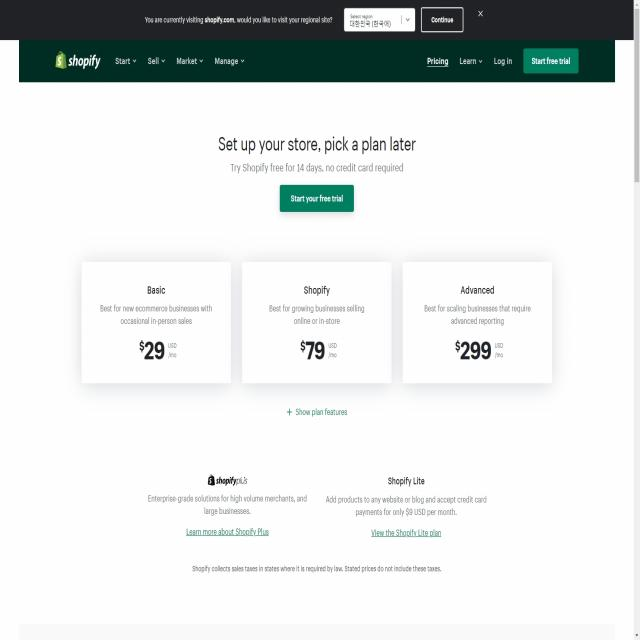menu-bar: (422, 48, 581, 73), (110, 45, 251, 73)
